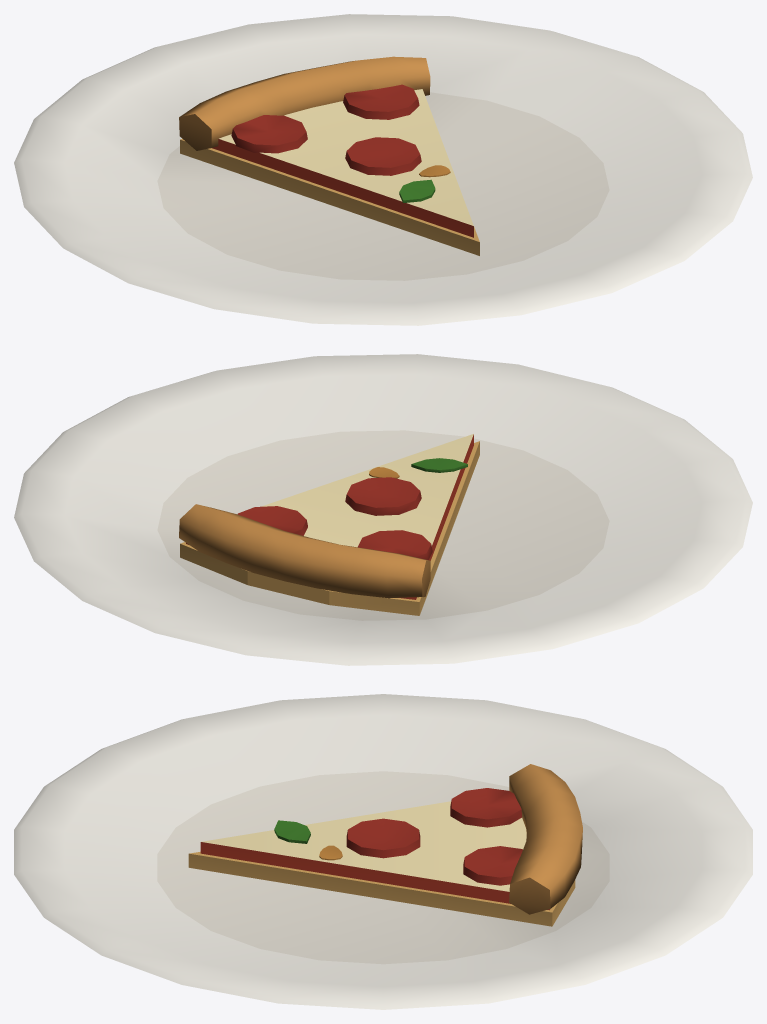
The model's file is pizzaSlice.glb.
3 renders of one model, top to bottom at view 1: azimuth 30°, elevation 25°; view 2: azimuth 150°, elevation 25°; view 3: azimuth 270°, elevation 25°, orthographic.
Parts seen in each view (by area): view 1: pizzaSlice; view 2: pizzaSlice; view 3: pizzaSlice.
Boxes of the visible parts, left/top/right/bottom form: pizzaSlice: left=14, top=14, right=752, bottom=325; pizzaSlice: left=14, top=354, right=752, bottom=665; pizzaSlice: left=14, top=694, right=752, bottom=1009.
Bounding box in the file's own units: 0.2876 × 0.031 × 0.2847.
